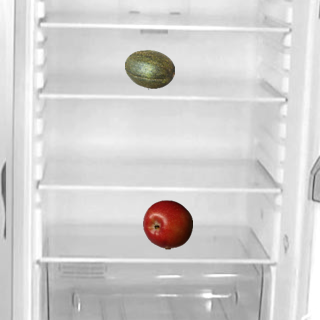Apple Braeburn: (142, 199, 192, 249)
Melon Piel de Sapo: (124, 44, 174, 94)
